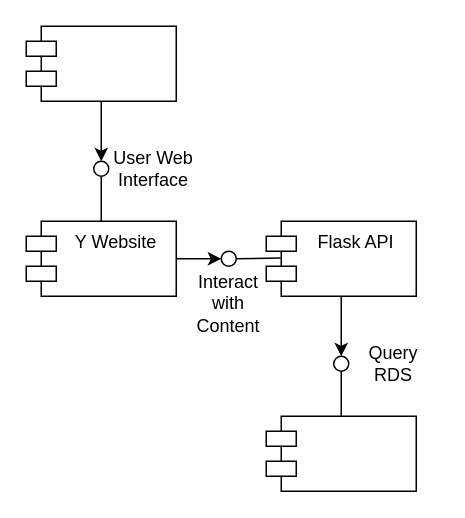
Some shapes in this 465 by 518 pixel diagram are drawn without their labels. Here are the shapes that lost their labels. From the top down, the centre of each, then its label:
the point at 100,63: <<external>> User Web Client
the point at 340,453: RDS
